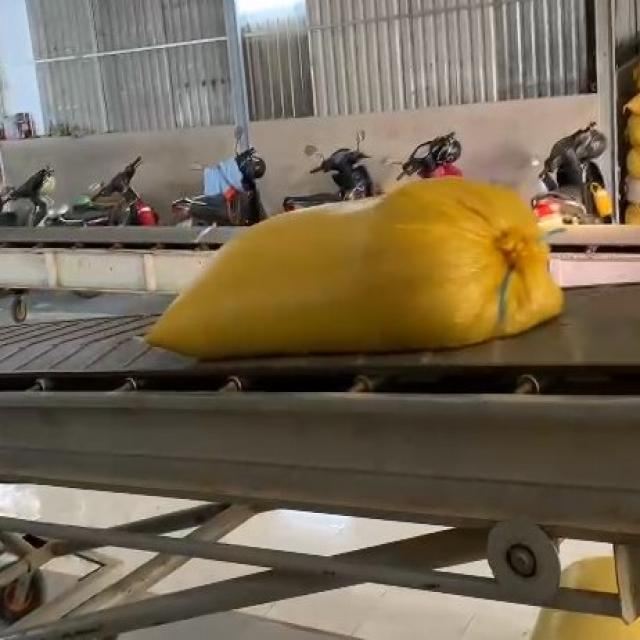gunny_bag: (147, 180, 565, 360)
